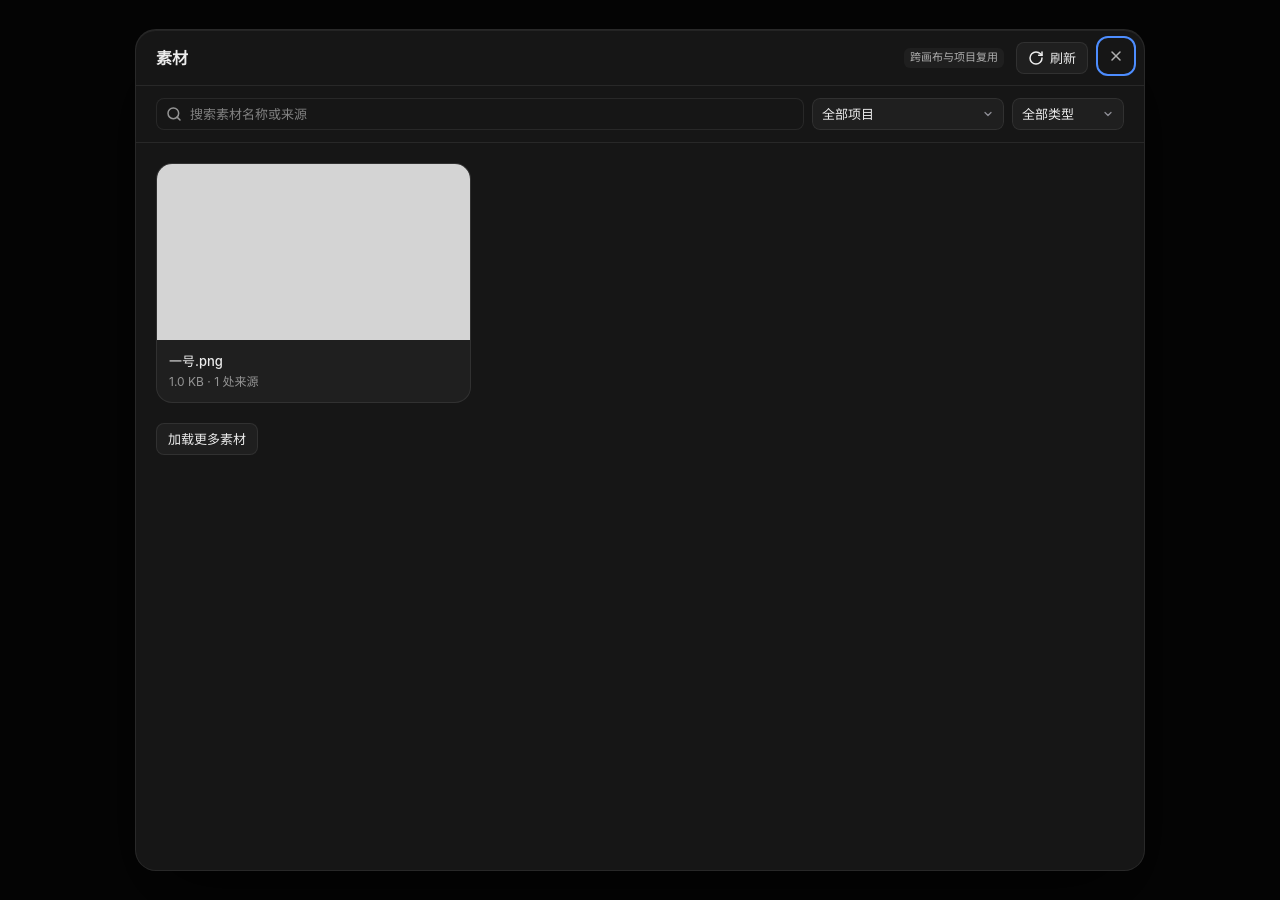
Test: 素材面板的分页与失败恢复 › 分页游标无效时说明要重新读取首页，重新读取发的是不带游标的首页请求并替换结果
The image size is (1280, 900).
In the search field labelled "搜索素材": [492, 114] box [190, 105, 794, 123], type "杯子"
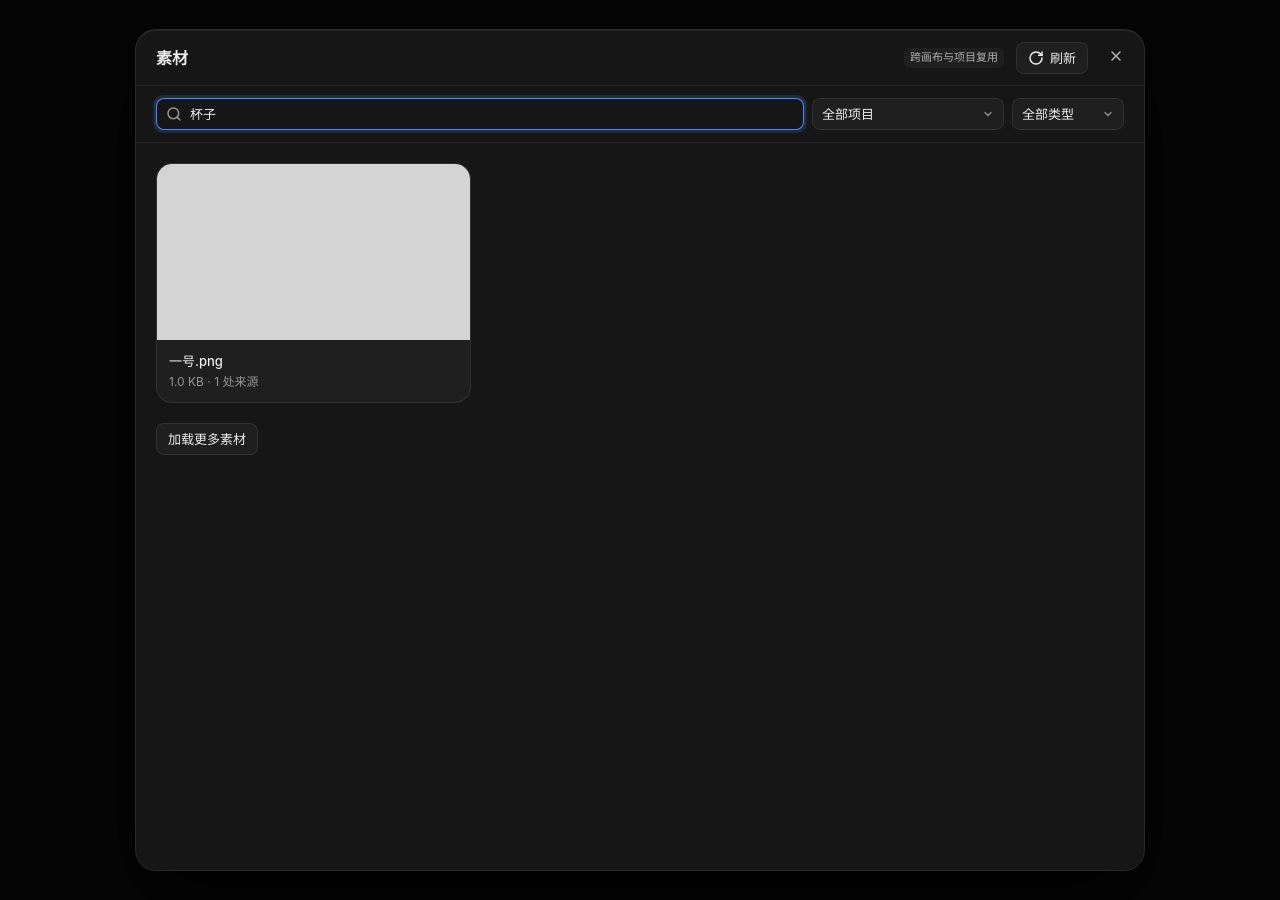
Click the button "加载更多素材": [207, 439] box [156, 423, 258, 455]
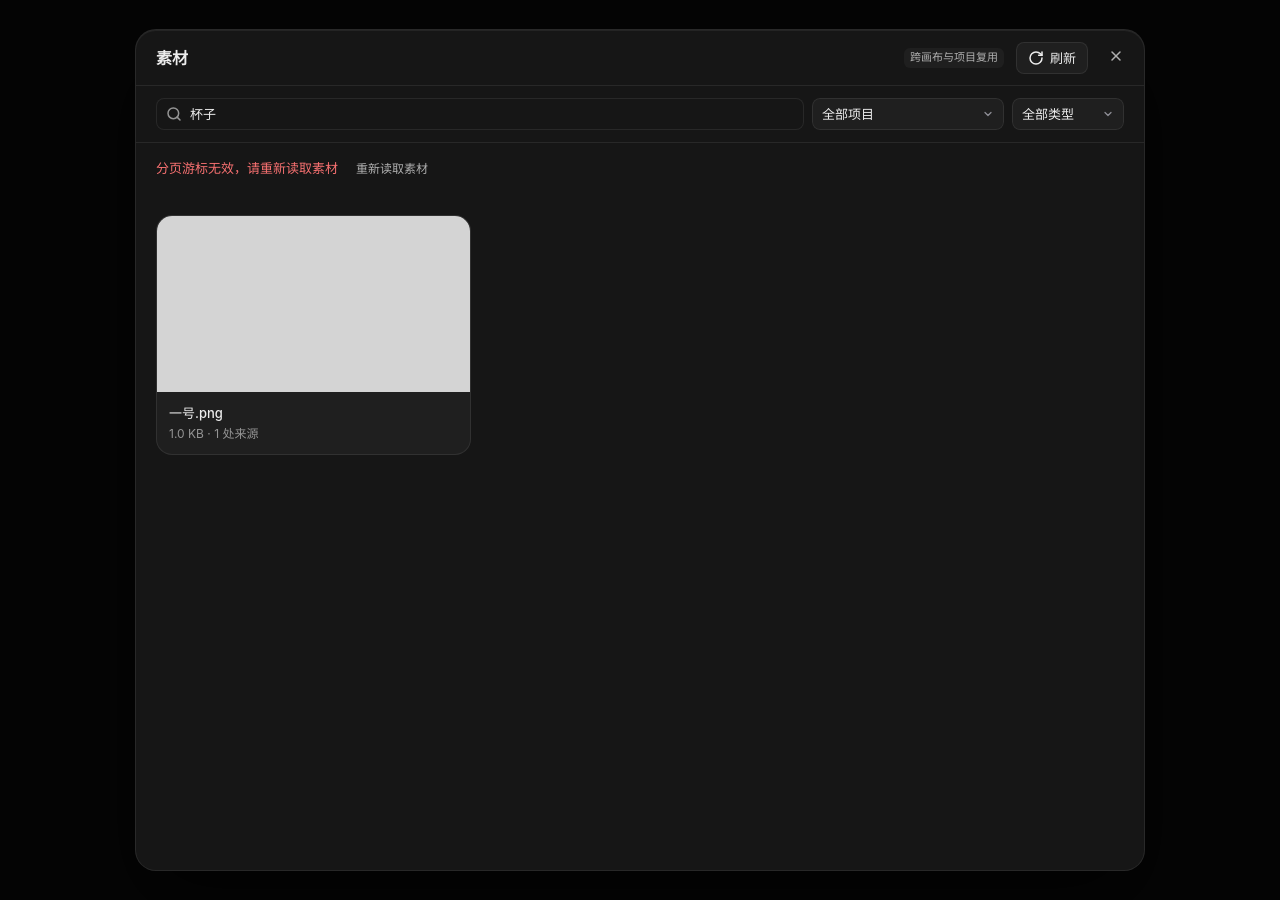
Result: the text "分页游标无效，请重新读取素材" is shown at [156, 160, 338, 176]
Click the button "重新读取素材": [392, 169] box [346, 155, 438, 183]
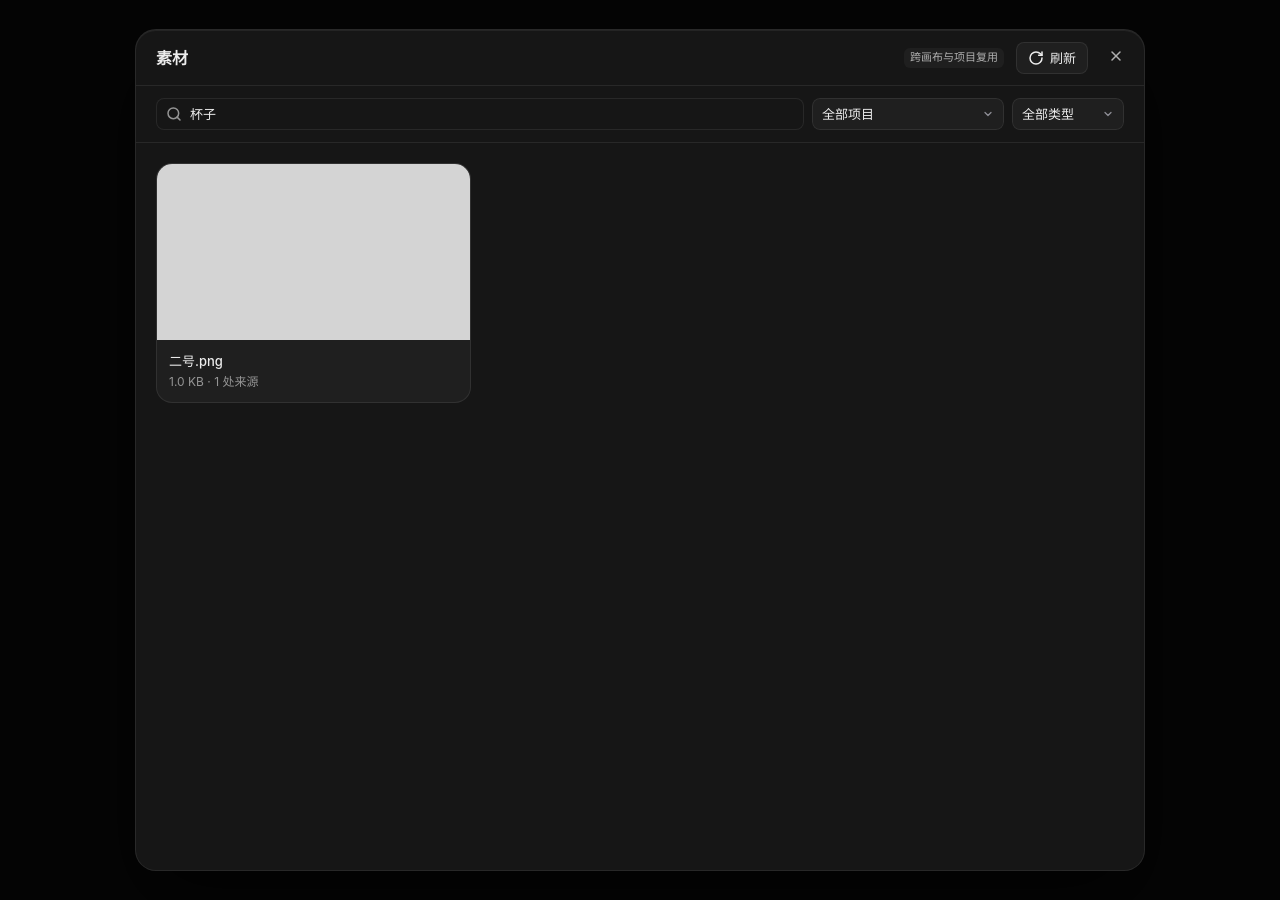
Result: the text "分页游标无效，请重新读取素材" is gone
